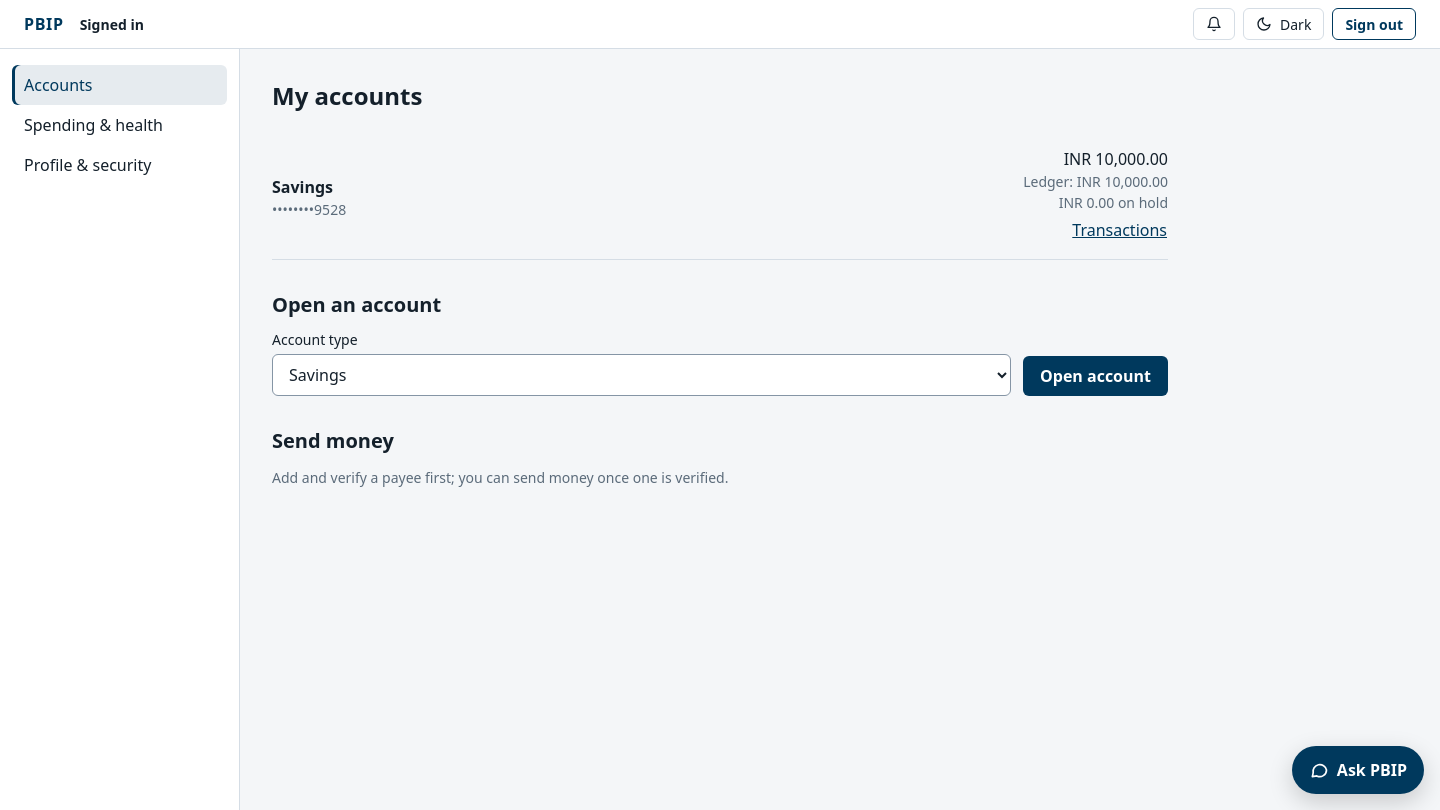
Test case: opening an account › opens a checking account and refreshes the list
Select "Current (checking)" in the dropdown labelled "Account type" at (642, 375), box [272,354,1011,396]
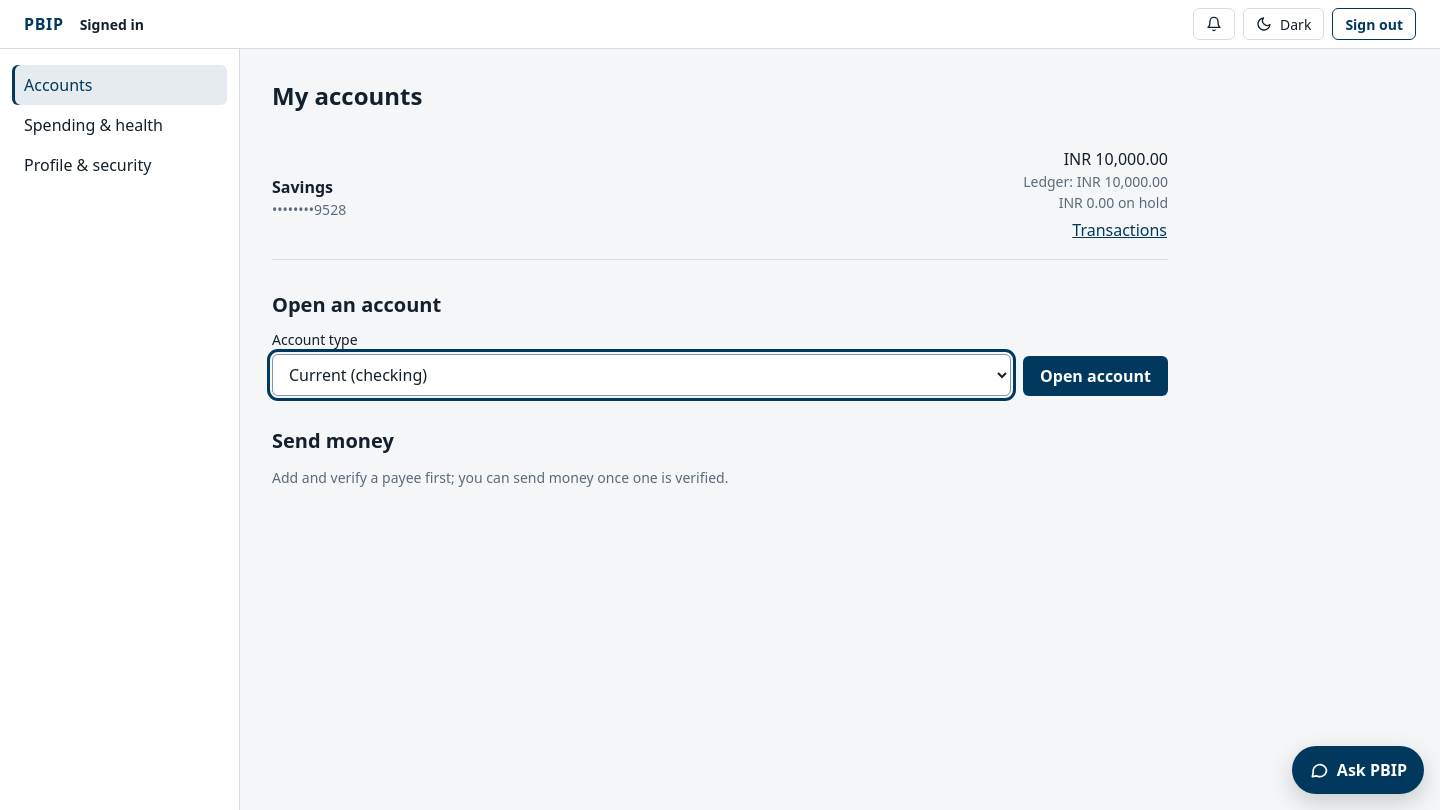
Click the button "Open account".
click(1096, 376)  # box [1023,356,1168,396]
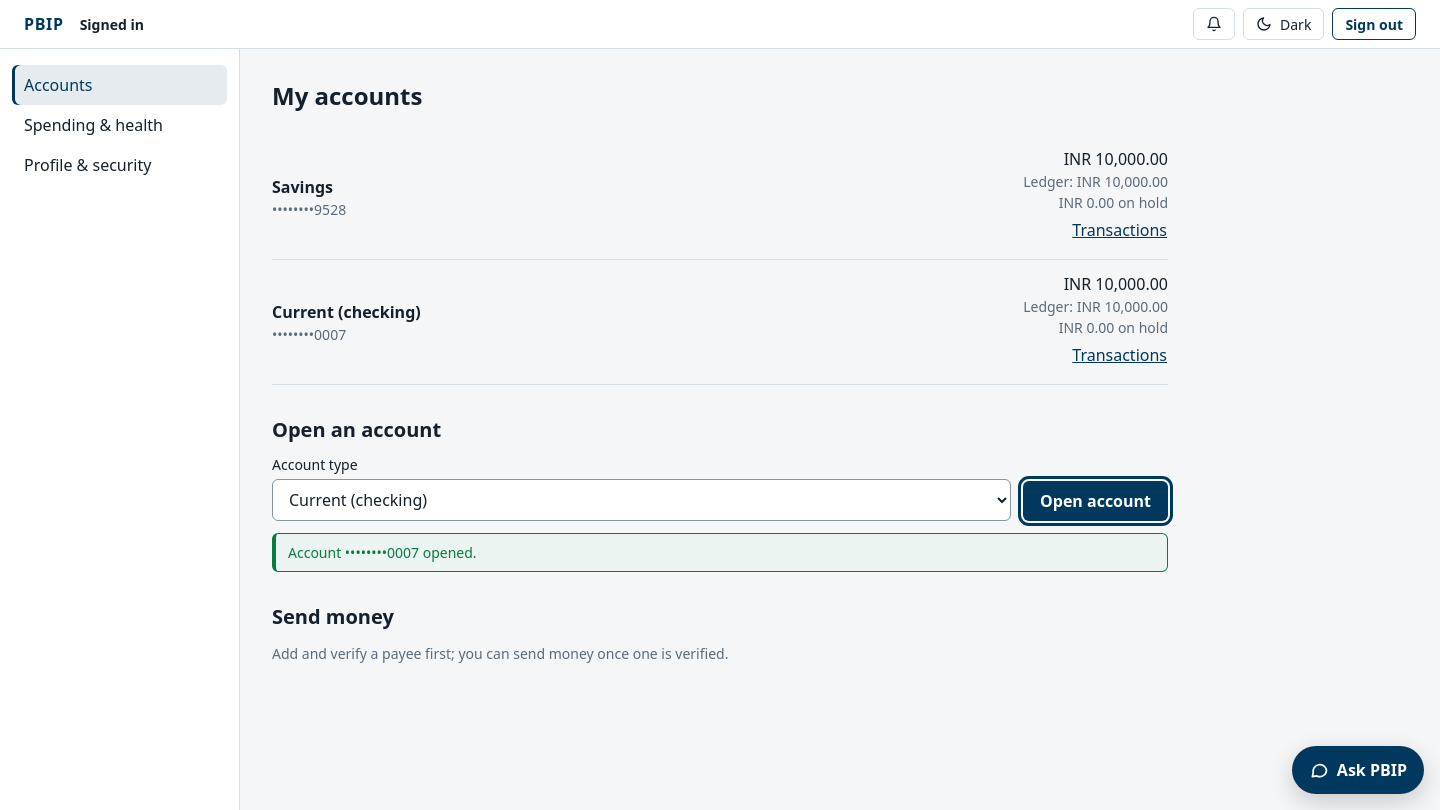
Check: the message reads "Account ••••••••0007 opened.", box [272,533,1168,572]
Check: the text "••••••••0007" is shown, box [272,324,346,344]
